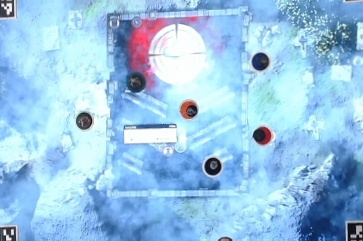black: (200, 154, 223, 177)
blue: (247, 51, 270, 74)
brown_turquoise: (122, 70, 145, 93)
green: (69, 110, 93, 133)
orange: (177, 98, 201, 122)
red: (249, 125, 272, 148)
